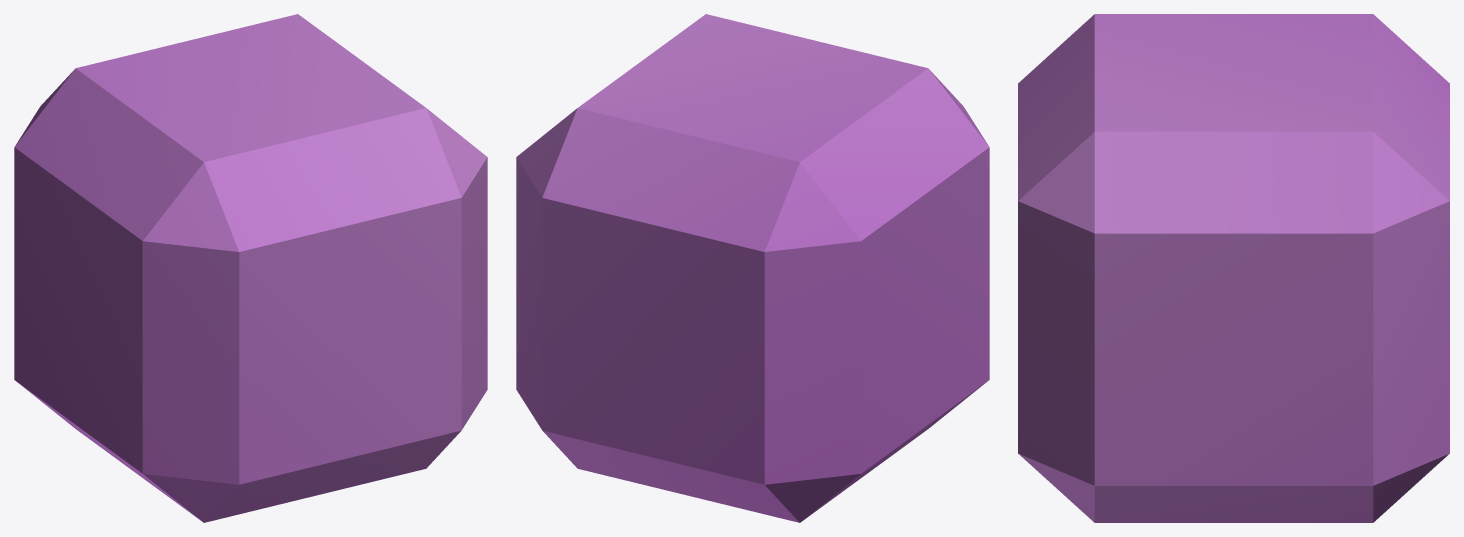
Rendered from Marble.fbx.
3 renders of one model, left to right at view 1: azimuth 30°, elevation 25°; view 2: azimuth 150°, elevation 25°; view 3: azimuth 270°, elevation 25°, orthographic. The views are drawn at different scales.
Visible parts, largest first — view 1: MARBLE.001; view 2: MARBLE.001; view 3: MARBLE.001.
Boxes of the visible parts, x1,y1,x2,y2 form: MARBLE.001: (14,14,487,522); MARBLE.001: (516,14,989,522); MARBLE.001: (1018,14,1449,522).
Bounding box in the file's own units: 113 × 113 × 113.
1 material, 1 textured.
